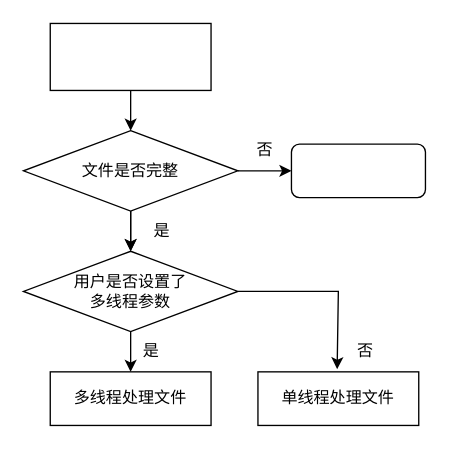
The diagram is 449 pixels wide and 449 high, and some of its shapes have lost their labels. The shapes that lost their labels are listed below. From the top down, each one's centre as x and y in pixels, then its label:
point 130,56: 构建处理文件类对象
point 357,170: 结束
